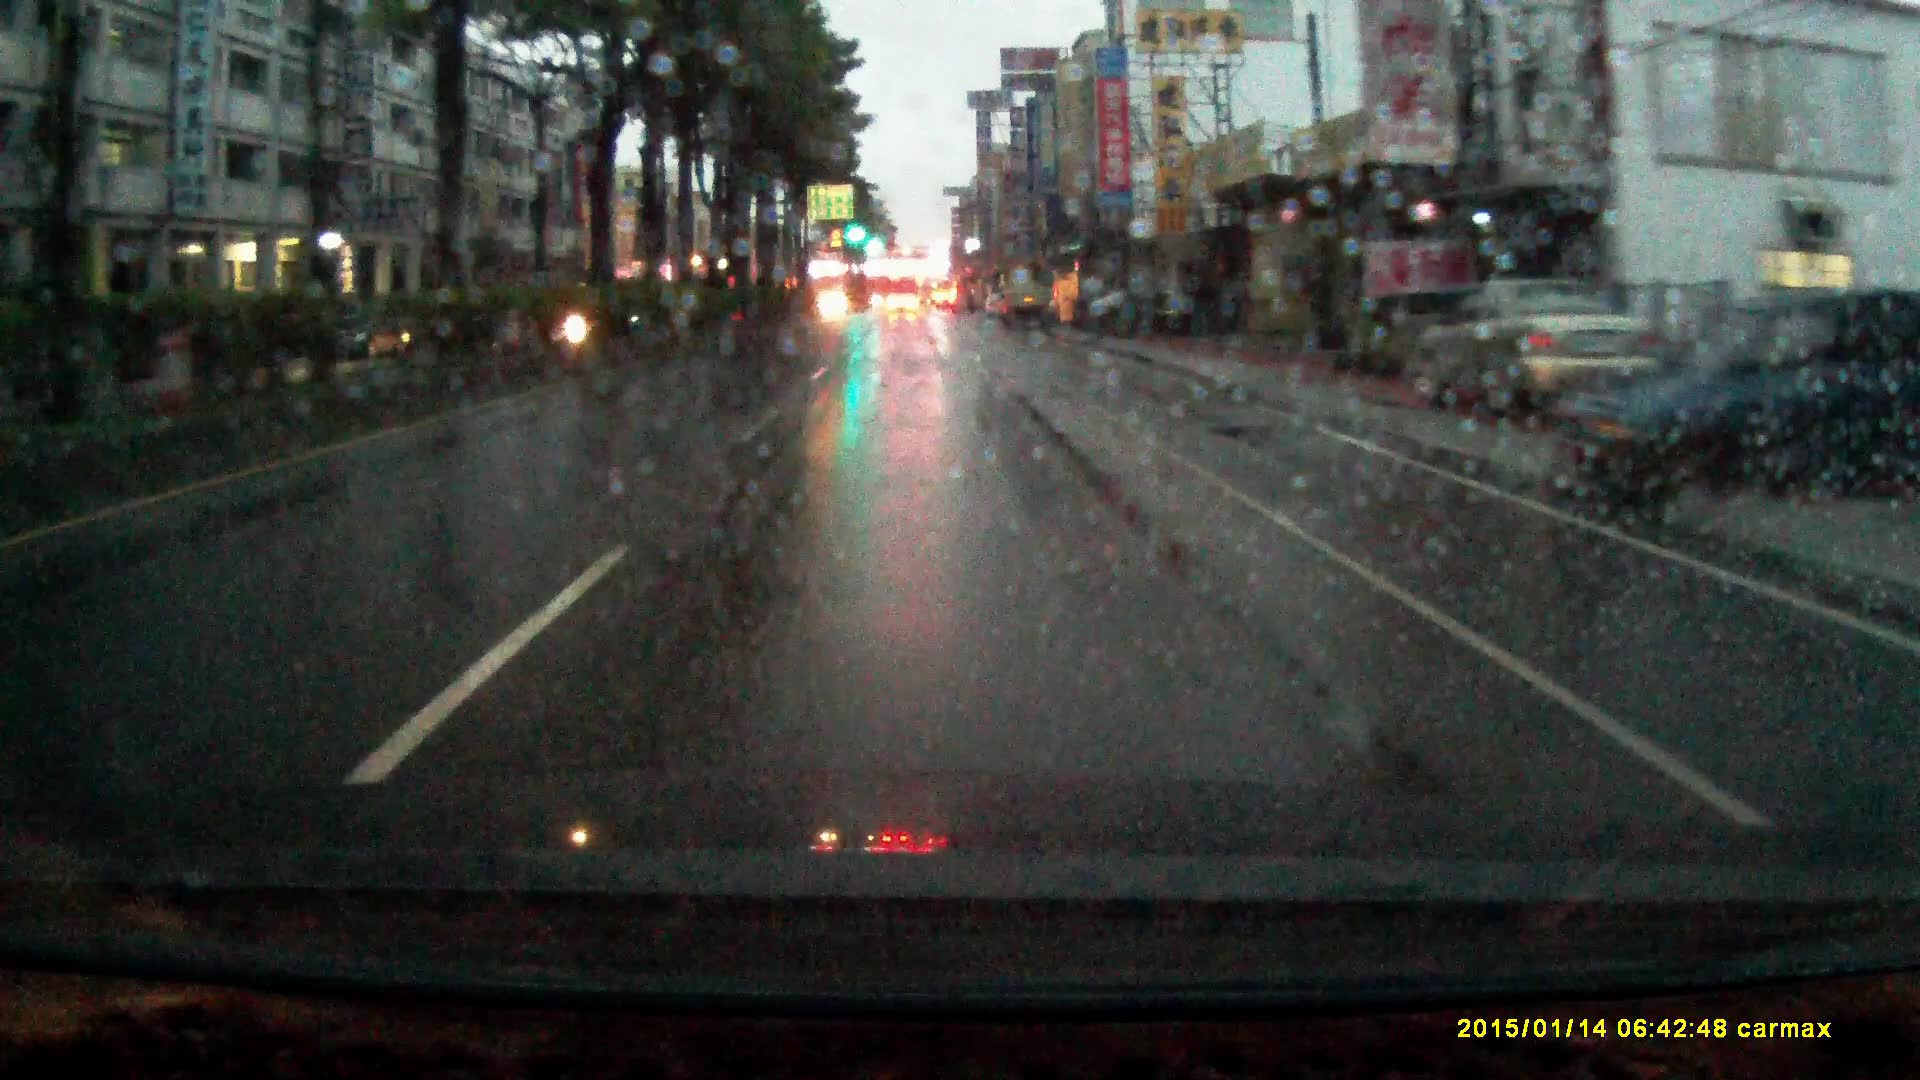vehicle: (1551, 291, 1920, 505), (1432, 281, 1651, 425), (1072, 284, 1240, 338), (998, 284, 1048, 335), (886, 294, 920, 316)
